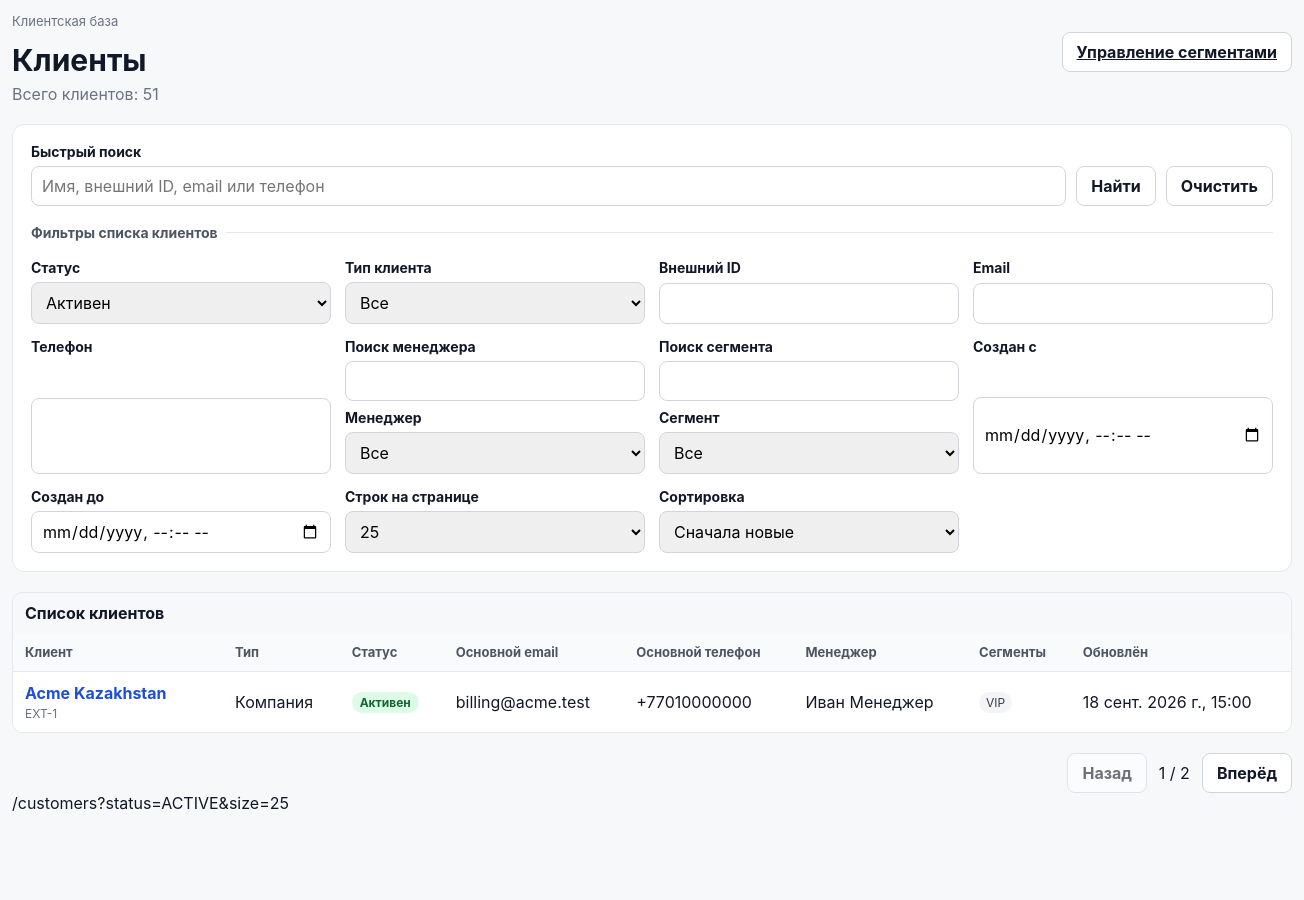
Test case: CustomersPage › writes pagination to the URL and requests the next page
Expected: the link "Acme Kazakhstan" is shown, [25,683,167,703]
Click the button "Вперёд". click: (1247, 773)
box: [1202,753,1292,793]
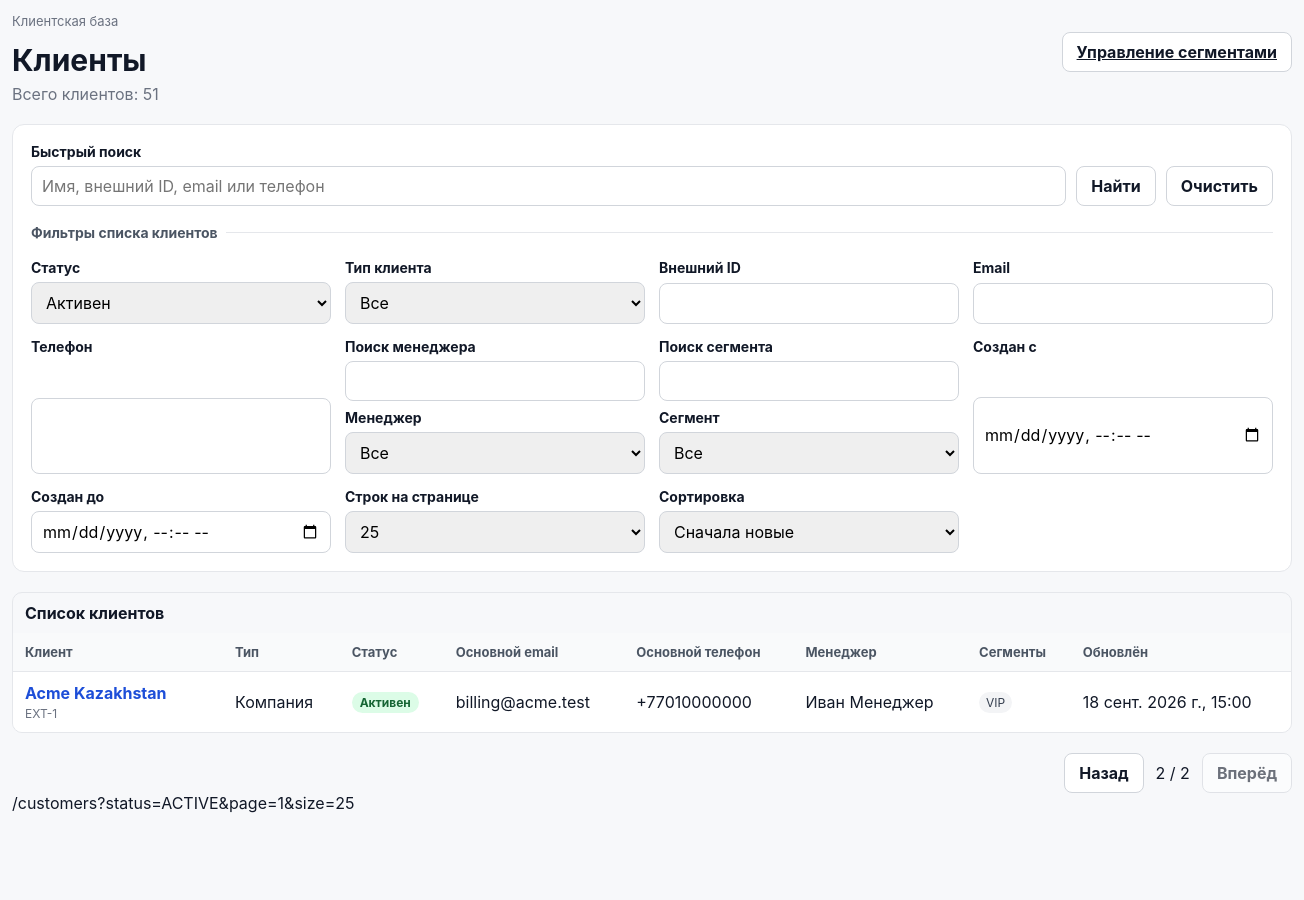
Now the text with test id "location" reads "/customers?status=ACTIVE&page=1&size=25", box [12,793,354,813]
